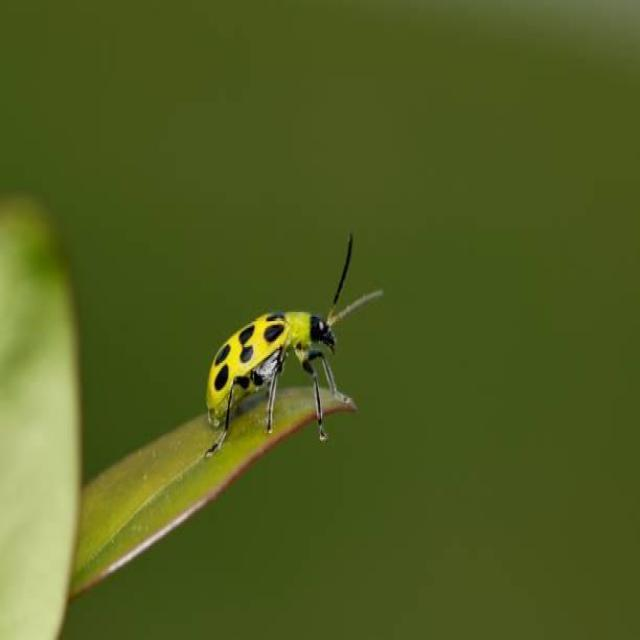gusano_verde: (196, 270, 350, 450)
